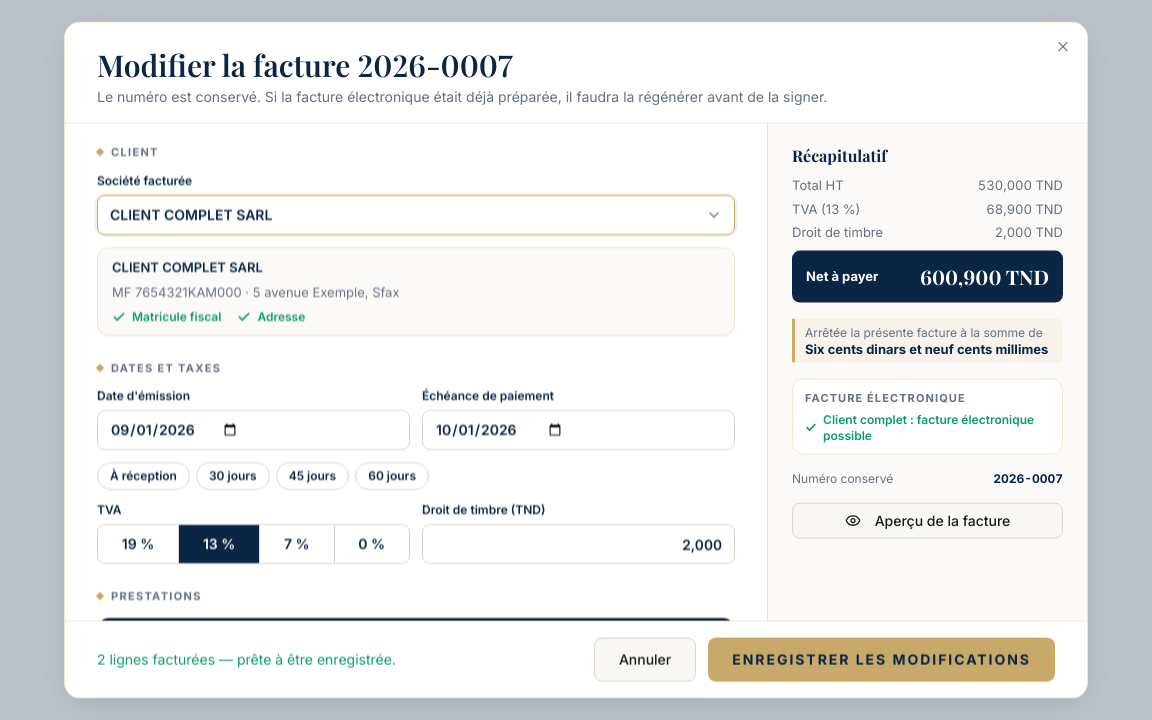
Test: FactureFormSheet : nouvelle présentation › échéance avant l'émission : message clair et génération bloquée
Type "2026-08-01" into the date field labelled "Échéance de paiement" at (578, 430), box [422,410,735,450]
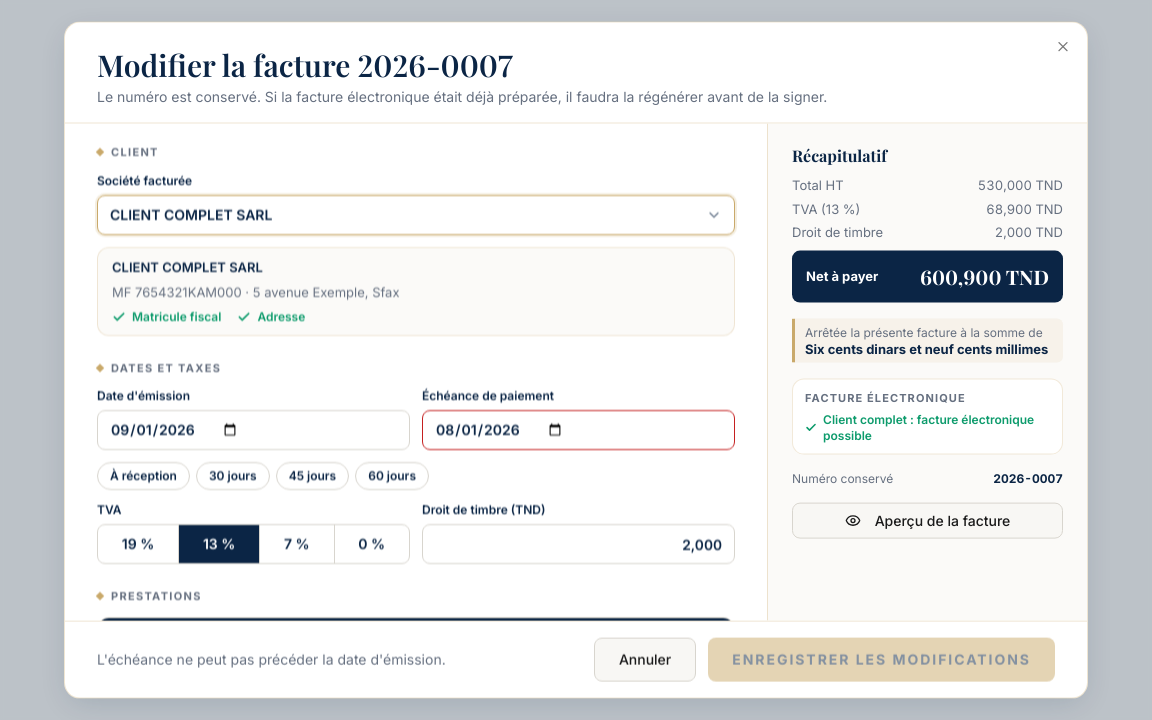
Check: the message reads "L'échéance ne peut pas précéder la date d'émission.", box [97,650,446,667]
Check: the button "Enregistrer les modifications" is disabled, box [708,637,1055,681]
